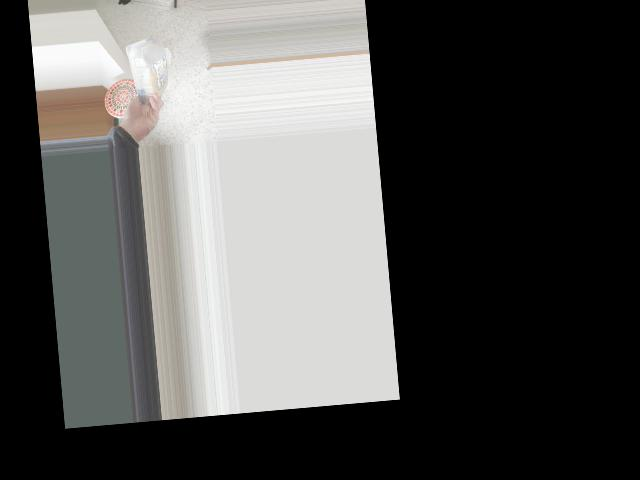cheese: (128, 35, 170, 103)
